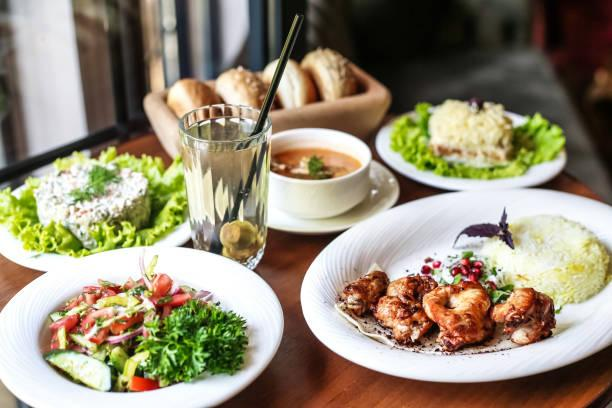Braised Crucian Carp: (307, 197, 600, 377), (0, 245, 284, 408), (0, 151, 195, 255), (376, 97, 567, 191), (267, 126, 371, 220)
